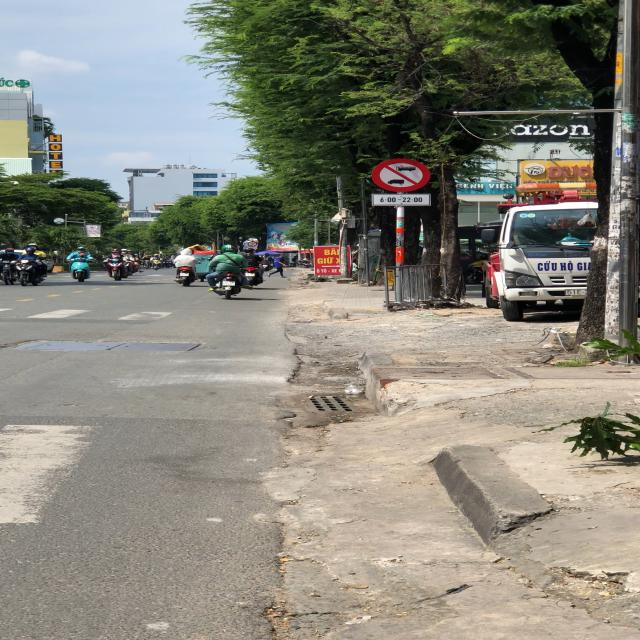Bien bao cam xe oto khach va xe oto tai: (371, 157, 432, 193)
